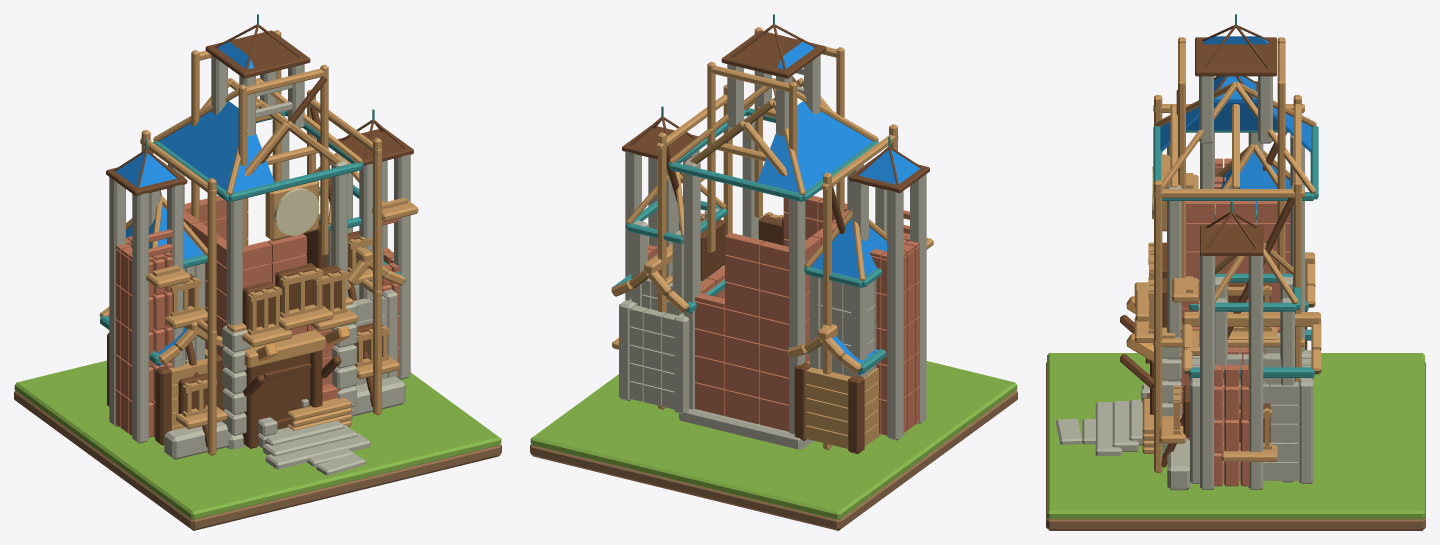
The model's file is town_hall_l11_construction_LOD0.glb.
The picture shows the model from 3 angles, left to right: view 1: azimuth 30°, elevation 25°; view 2: azimuth 150°, elevation 25°; view 3: azimuth 270°, elevation 25°; orthographic projection. The views are drawn at different scales.
Parts seen in each view (by area): view 1: town_hall_l11_construction_grass_tile, town_hall_l11_construction_earth_tile, town_hall_l11_construction_corner_reinforcement.024, town_hall_l11_construction_corner_reinforcement.030, town_hall_l11_construction_scaffold_post, town_hall_l11_construction_door_recess, town_hall_l11_construction_scaffold_post.002, town_hall_l11_construction_central_spire_cornice, town_hall_l11_construction_corner_reinforcement.025, town_hall_l11_construction_hip_roof_shingle.011, town_hall_l11_construction_corner_reinforcement, town_hall_l11_construction_corner_reinforcement.002 (+40 smaller); view 2: town_hall_l11_construction_grass_tile, town_hall_l11_construction_earth_tile, town_hall_l11_construction_corner_reinforcement.025, town_hall_l11_construction_corner_reinforcement.001, town_hall_l11_construction_corner_reinforcement.003, town_hall_l11_construction_central_spire_cornice, town_hall_l11_construction_corner_reinforcement.024, town_hall_l11_construction_hip_roof_shingle.011, town_hall_l11_construction_foundation, town_hall_l11_construction_scaffold_post.001, town_hall_l11_construction_corner_reinforcement.009, town_hall_l11_construction_scaffold_post.003 (+57 smaller); view 3: town_hall_l11_construction_grass_tile, town_hall_l11_construction_earth_tile, town_hall_l11_construction_corner_reinforcement.031, town_hall_l11_construction_corner_reinforcement.030, town_hall_l11_construction_central_spire_cornice, town_hall_l11_construction_scaffold_post.002, town_hall_l11_construction_corner_reinforcement.002, town_hall_l11_construction_right_spire_cornice, town_hall_l11_construction_corner_reinforcement.011, town_hall_l11_construction_tower_frame_upright.003, town_hall_l11_construction_scaffold_post.003, town_hall_l11_construction_scaffold_rail.003 (+43 smaller).
Part boxes in pixels (box(x1,y1,x2,y2)): town_hall_l11_construction_grass_tile: box(14, 360, 501, 519); town_hall_l11_construction_earth_tile: box(14, 390, 501, 530); town_hall_l11_construction_corner_reinforcement.024: box(132, 193, 148, 443); town_hall_l11_construction_corner_reinforcement.030: box(394, 154, 410, 379); town_hall_l11_construction_scaffold_post: box(207, 178, 216, 455); town_hall_l11_construction_door_recess: box(258, 353, 310, 433); town_hall_l11_construction_scaffold_post.002: box(373, 137, 381, 415); town_hall_l11_construction_central_spire_cornice: box(205, 30, 310, 78); town_hall_l11_construction_corner_reinforcement.025: box(109, 177, 125, 426); town_hall_l11_construction_hip_roof_shingle.011: box(159, 124, 235, 201); town_hall_l11_construction_corner_reinforcement: box(226, 199, 243, 434); town_hall_l11_construction_corner_reinforcement.002: box(331, 158, 347, 298); town_hall_l11_construction_grass_tile: box(530, 361, 1017, 519); town_hall_l11_construction_earth_tile: box(530, 390, 1017, 530); town_hall_l11_construction_corner_reinforcement.025: box(887, 190, 903, 440); town_hall_l11_construction_corner_reinforcement.001: box(788, 199, 805, 434); town_hall_l11_construction_corner_reinforcement.003: box(684, 158, 700, 409); town_hall_l11_construction_central_spire_cornice: box(721, 30, 826, 78); town_hall_l11_construction_corner_reinforcement.024: box(910, 174, 926, 423); town_hall_l11_construction_hip_roof_shingle.011: box(796, 124, 872, 201); town_hall_l11_construction_foundation: box(679, 409, 813, 449); town_hall_l11_construction_scaffold_post.001: box(823, 172, 831, 449); town_hall_l11_construction_corner_reinforcement.009: box(674, 313, 689, 414); town_hall_l11_construction_scaffold_post.003: box(657, 132, 666, 409); town_hall_l11_construction_grass_tile: box(1047, 353, 1424, 519); town_hall_l11_construction_earth_tile: box(1046, 362, 1425, 530); town_hall_l11_construction_corner_reinforcement.031: box(1248, 255, 1263, 489); town_hall_l11_construction_corner_reinforcement.030: box(1200, 255, 1214, 489); town_hall_l11_construction_central_spire_cornice: box(1195, 37, 1276, 76); town_hall_l11_construction_scaffold_post.002: box(1154, 180, 1162, 472); town_hall_l11_construction_corner_reinforcement.002: box(1167, 184, 1181, 403); town_hall_l11_construction_right_spire_cornice: box(1200, 225, 1263, 255); town_hall_l11_construction_corner_reinforcement.011: box(1298, 378, 1313, 483); town_hall_l11_construction_tower_frame_upright.003: box(1277, 79, 1285, 273); town_hall_l11_construction_scaffold_post.003: box(1293, 180, 1301, 381); town_hall_l11_construction_scaffold_rail.003: box(1153, 189, 1304, 197).
Size of the model in its own units: 3.6 by 4.58 by 3.6.
